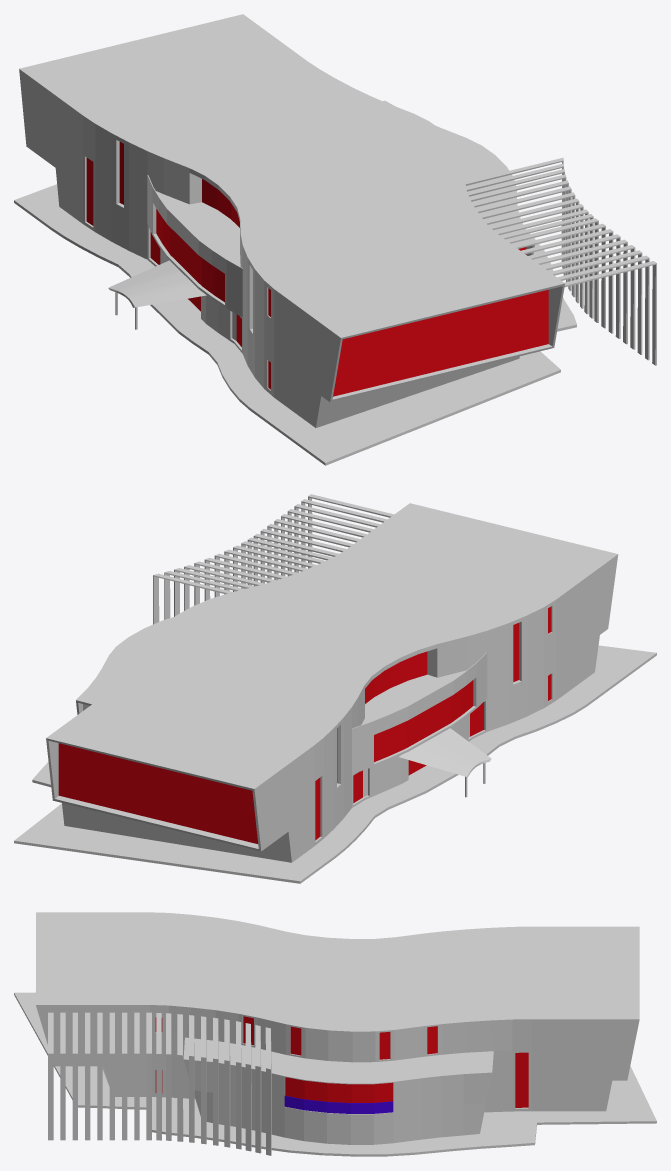
File: SM_infrastructure_buildings_019.glb
3 views of the same model, one above another, from view 1: azimuth 30°, elevation 25°; view 2: azimuth 150°, elevation 25°; view 3: azimuth 270°, elevation 25° (orthographic). The views are drawn at different scales.
Visible parts, largest first — view 1: infrastructure_buildings_019; view 2: infrastructure_buildings_019; view 3: infrastructure_buildings_019.
Boxes of the visible parts, <box> form: infrastructure_buildings_019: <box>14,14,656,465</box>; infrastructure_buildings_019: <box>14,494,656,883</box>; infrastructure_buildings_019: <box>14,912,656,1156</box>.
Size of the model in its own units: 46 by 12.3 by 76.
